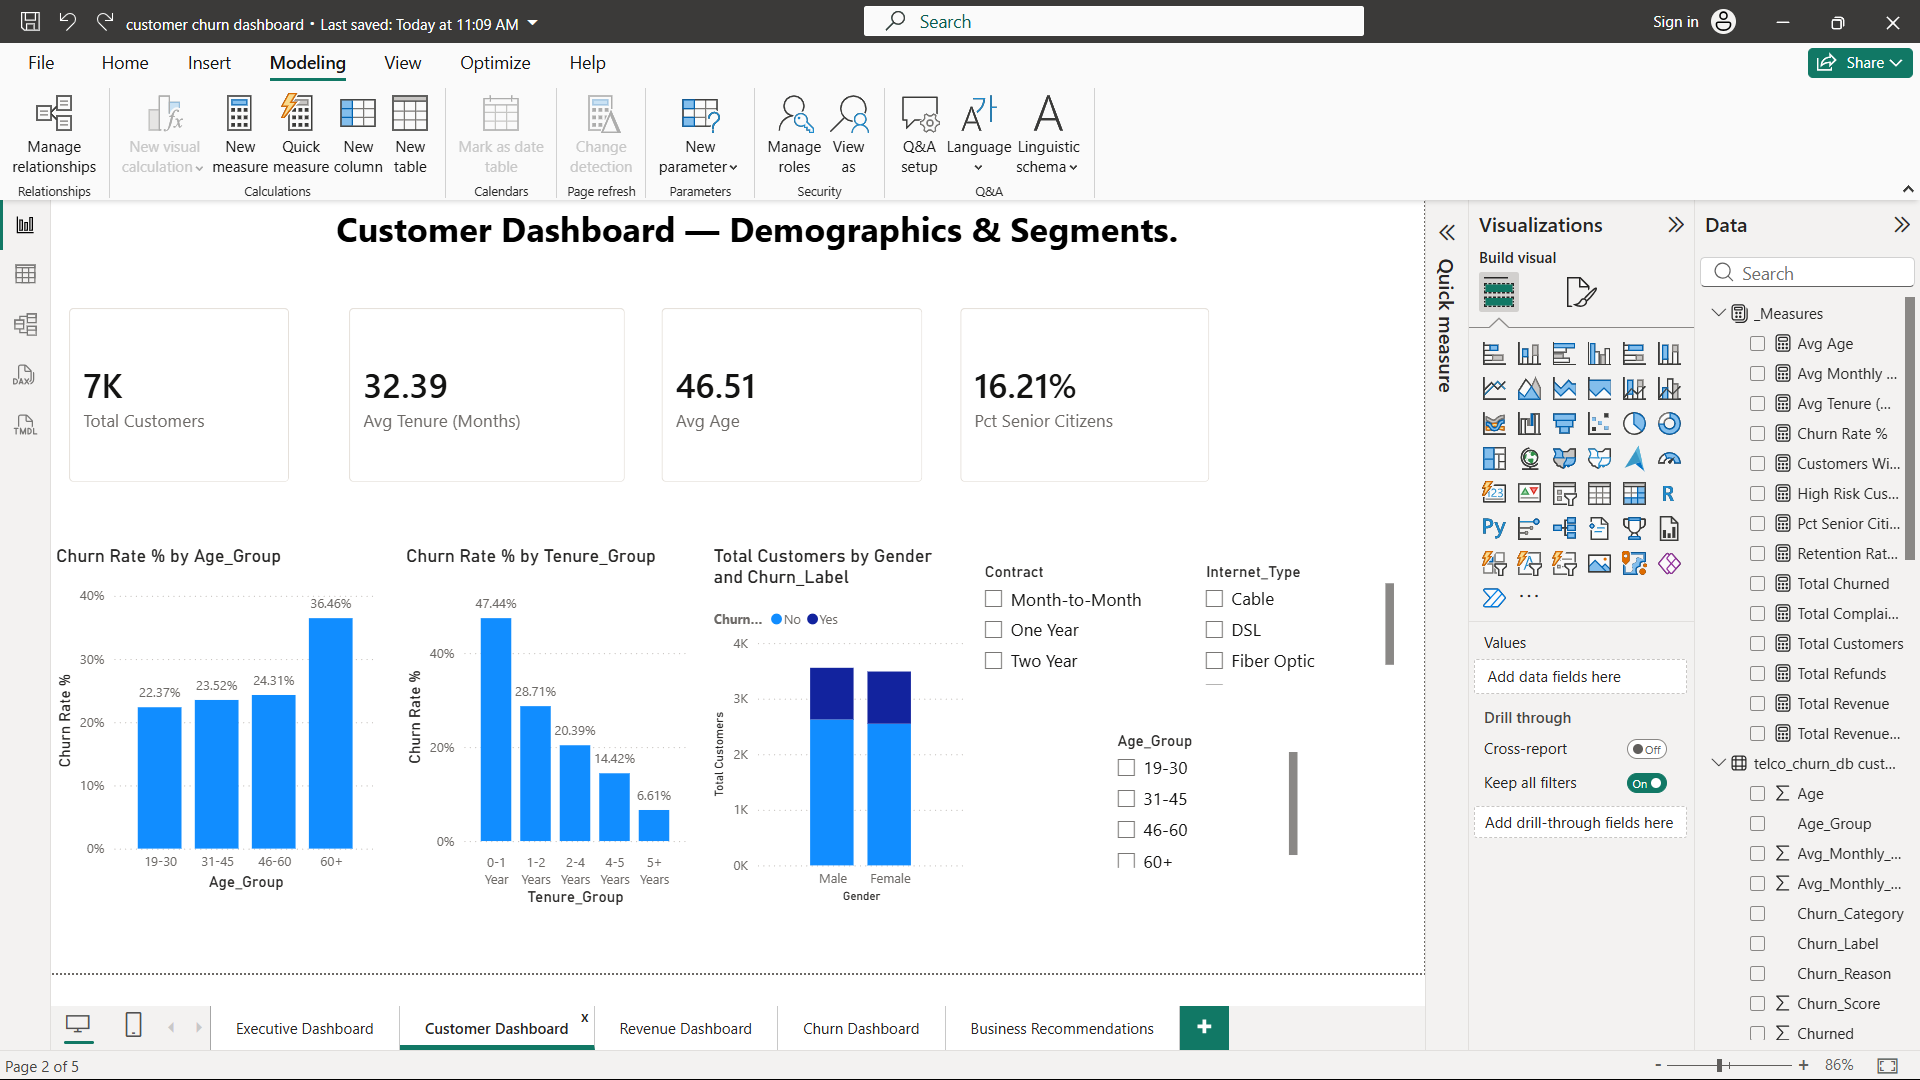

What the dashboard file says about the page in this screenshot:
{"tool":"powerbi","page":{"name":"Customer Dashboard","canvas":[1280,720],"ordinal":1},"visuals":[{"type":"textbox","box":[260.5,0,814,64],"z":0},{"type":"cardVisual","fields":{"Data":["_Measures.Total Customers"]},"box":[0,83.7,239.5,196.5],"z":1000},{"type":"cardVisual","fields":{"Data":["_Measures.Avg Tenure (Months)"]},"box":[260.5,83.7,291.9,196.5],"z":2000},{"type":"cardVisual","fields":{"Data":["_Measures.Pct Senior Citizens"]},"box":[830.2,83.7,266.3,196.5],"z":3000},{"type":"cardVisual","fields":{"Data":["_Measures.Avg Age"]},"box":[552.3,83.7,277.9,196.5],"z":4000},{"type":"clusteredColumnChart","fields":{"Category":["telco_churn_db customer_churn.Age_Group"],"Y":["_Measures.Churn Rate %"]},"box":[0,322.1,309.3,326.7],"z":5000},{"type":"clusteredColumnChart","fields":{"Category":["telco_churn_db customer_churn.Tenure_Group"],"Y":["_Measures.Churn Rate %"]},"box":[326.7,322.1,270.9,340.7],"z":6000},{"type":"columnChart","fields":{"Category":["telco_churn_db customer_churn.Gender"],"Y":["_Measures.Total Customers"],"Series":["telco_churn_db customer_churn.Churn_Label"]},"box":[612.8,322.1,244.2,338.4],"z":7000},{"type":"slicer","fields":{"Values":["telco_churn_db customer_churn.Contract"]},"box":[857,333.7,214,138.4],"z":8000},{"type":"slicer","fields":{"Values":["telco_churn_db customer_churn.Internet_Type"]},"box":[1064,333.7,193,123.3],"z":9000},{"type":"slicer","fields":{"Values":["telco_churn_db customer_churn.Age_Group"]},"box":[981.4,490.7,186,137.2],"z":10000}]}

Visuals, with their boxes on the page's 1280x720 design canvas (x1, y1, x2, y2). These are canvas units, not pixel positions in the 1920x1080 screenshot, which may show the page scaled, cropped or inside an application window:
textbox: (260,0,1074,64)
cardVisual - _Measures.Total Customers: (0,84,240,280)
cardVisual - _Measures.Avg Tenure (Months): (260,84,552,280)
cardVisual - _Measures.Pct Senior Citizens: (830,84,1096,280)
cardVisual - _Measures.Avg Age: (552,84,830,280)
clusteredColumnChart - telco_churn_db customer_churn.Age_Group x _Measures.Churn Rate %: (0,322,309,649)
clusteredColumnChart - telco_churn_db customer_churn.Tenure_Group x _Measures.Churn Rate %: (327,322,598,663)
columnChart - telco_churn_db customer_churn.Gender x _Measures.Total Customers: (613,322,857,660)
slicer - telco_churn_db customer_churn.Contract: (857,334,1071,472)
slicer - telco_churn_db customer_churn.Internet_Type: (1064,334,1257,457)
slicer - telco_churn_db customer_churn.Age_Group: (981,491,1167,628)
